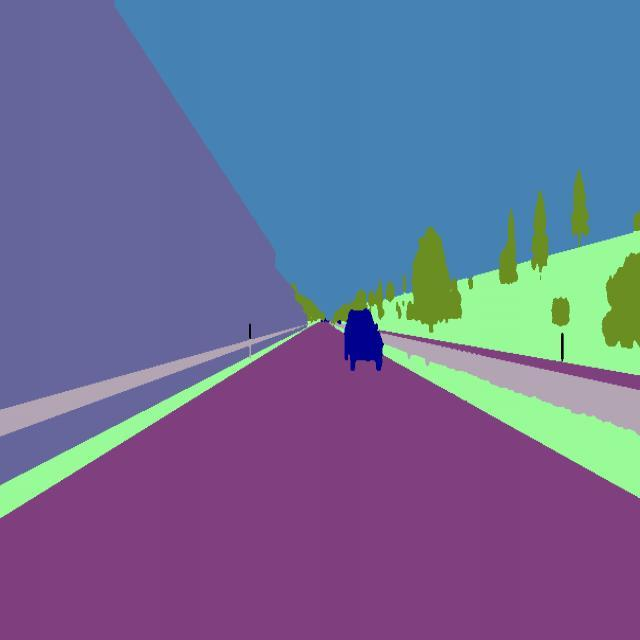safe: (340, 304, 386, 378)
